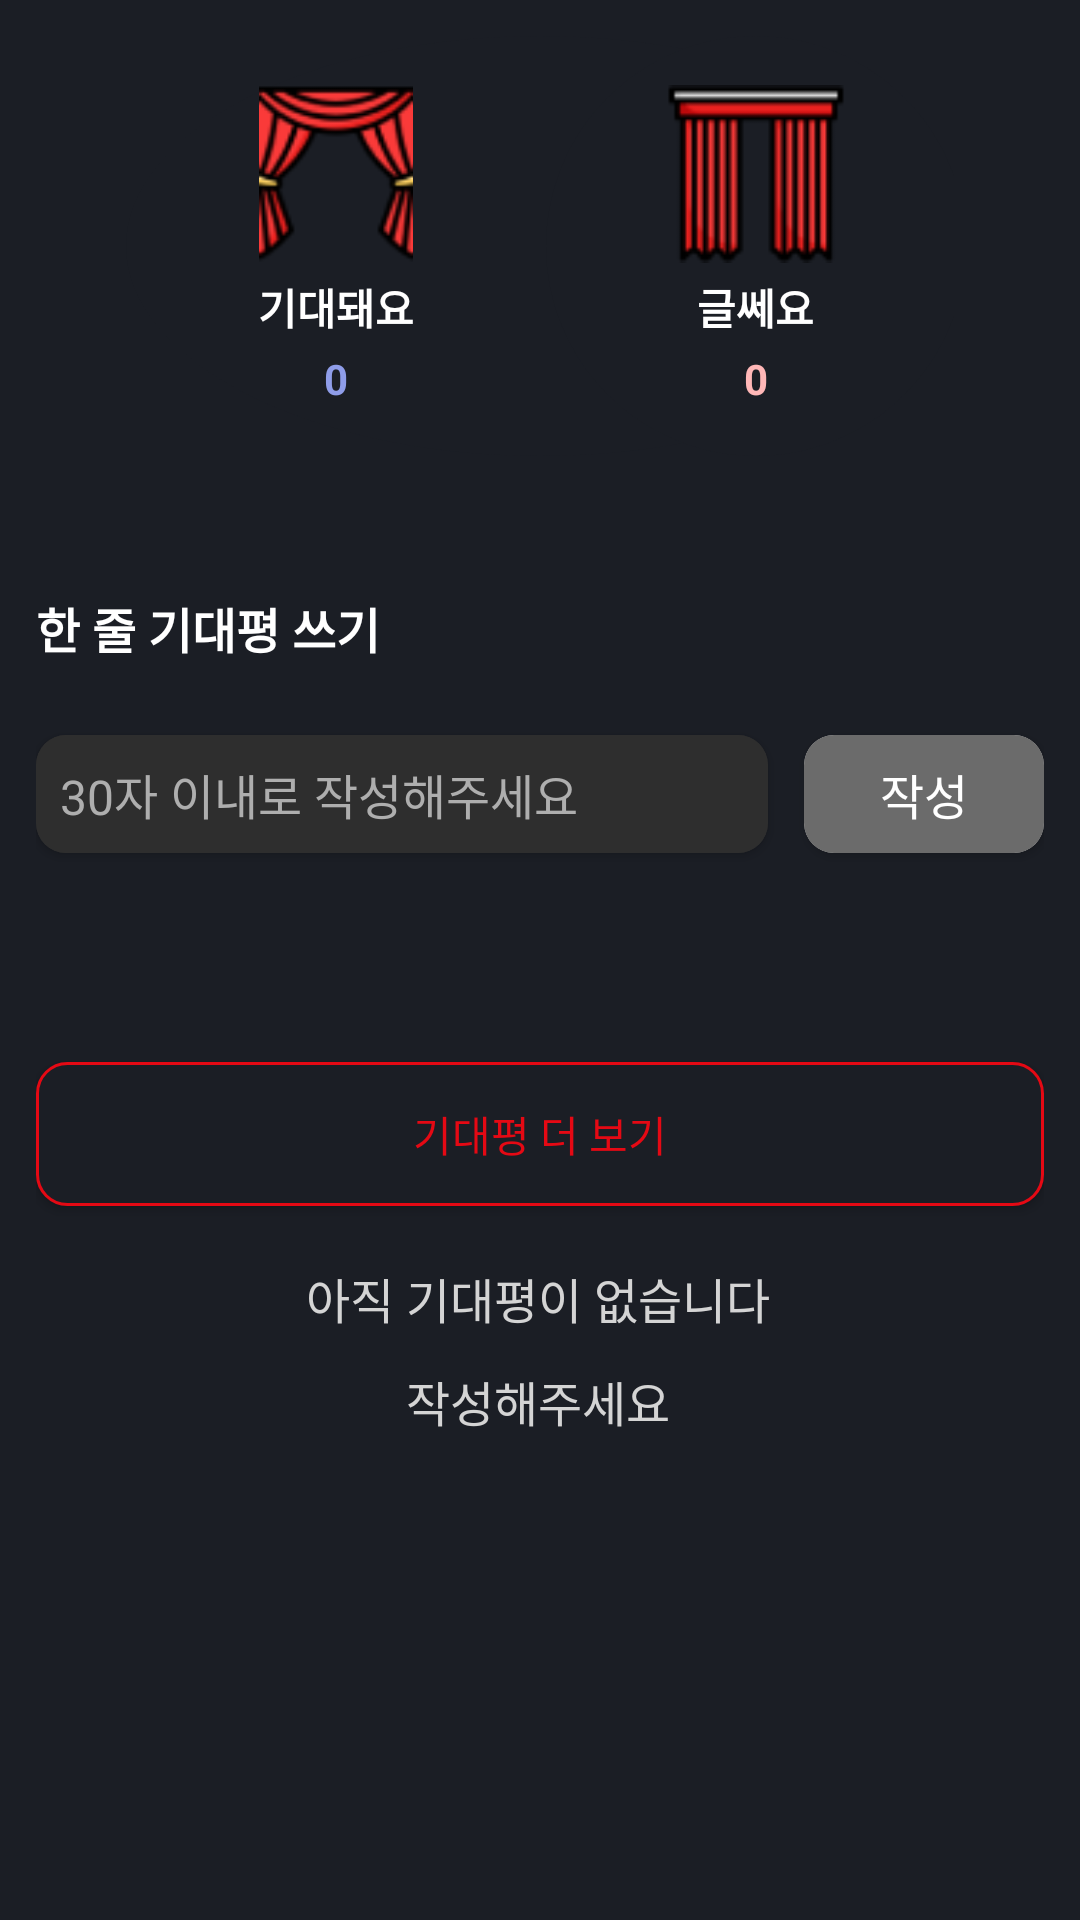

Where to tap for icons on this 1080px×1920px app screen, as (x,y):
curtain close: (756,174)
curtain open: (336,172)
